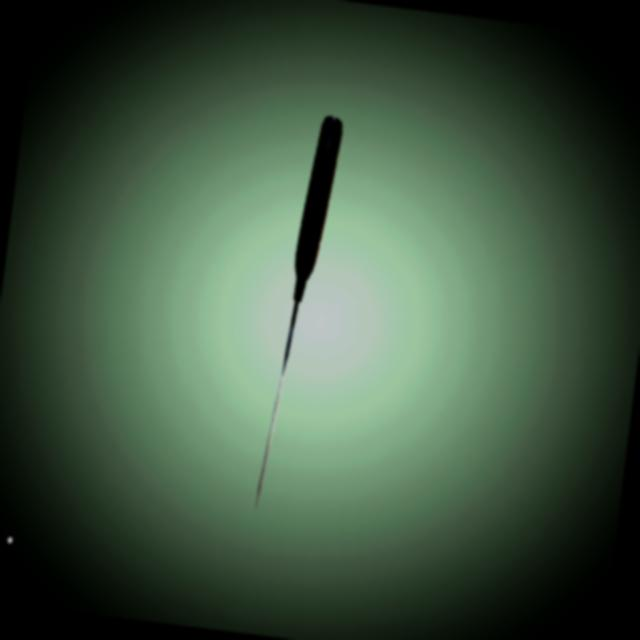cleaver: (246, 110, 350, 510)
